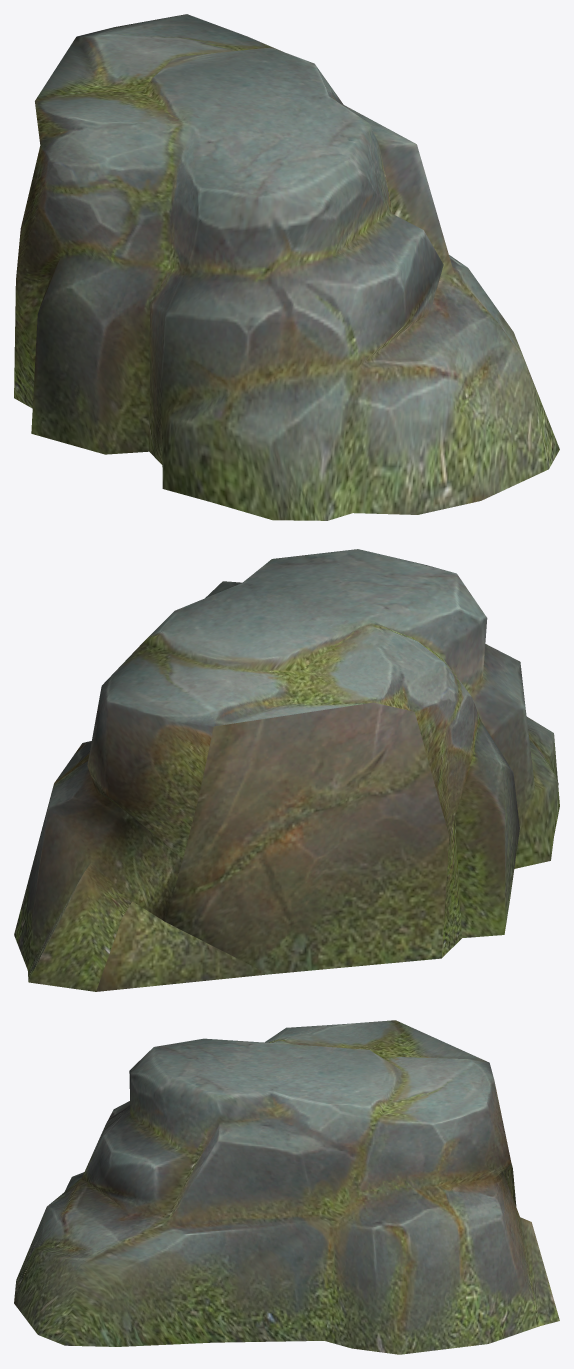
The model's file is wlf_shitou06_w.FBX.
3 views of the same model, one above another, from view 1: azimuth 30°, elevation 25°; view 2: azimuth 150°, elevation 25°; view 3: azimuth 270°, elevation 25° (orthographic). The views are drawn at different scales.
Parts seen in each view (by area): view 1: wlf_shitou06_w; view 2: wlf_shitou06_w; view 3: wlf_shitou06_w.
Part boxes in pixels (x1,y1,x2,y2): wlf_shitou06_w: [14, 14, 559, 520]; wlf_shitou06_w: [14, 549, 559, 991]; wlf_shitou06_w: [14, 1020, 559, 1354].
Size of the model in its own units: 53.49 by 35.36 by 80.77.
